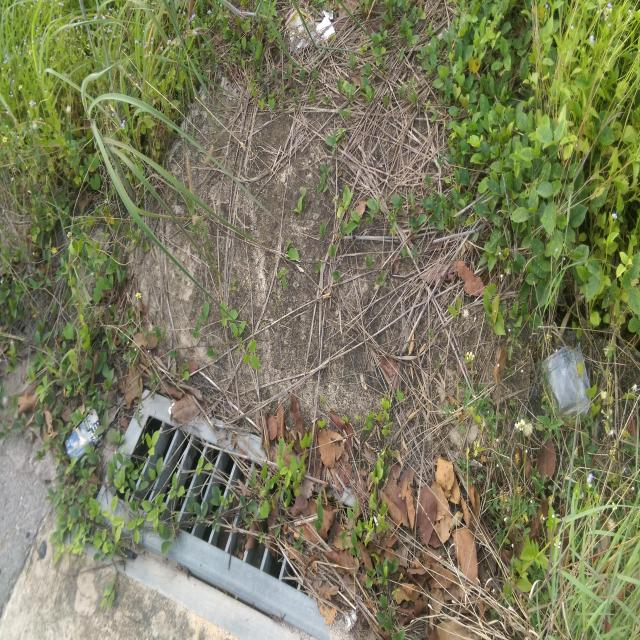litter: (538, 345, 590, 428)
